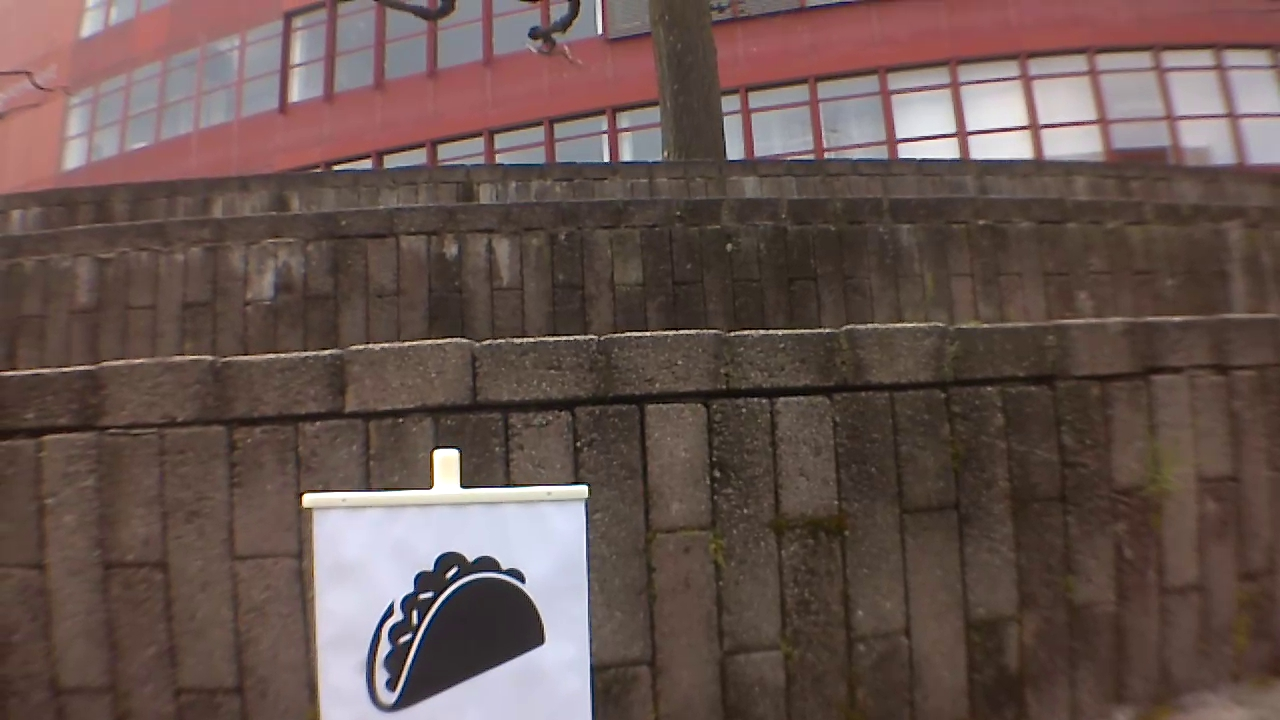taco: (356, 539, 551, 718)
